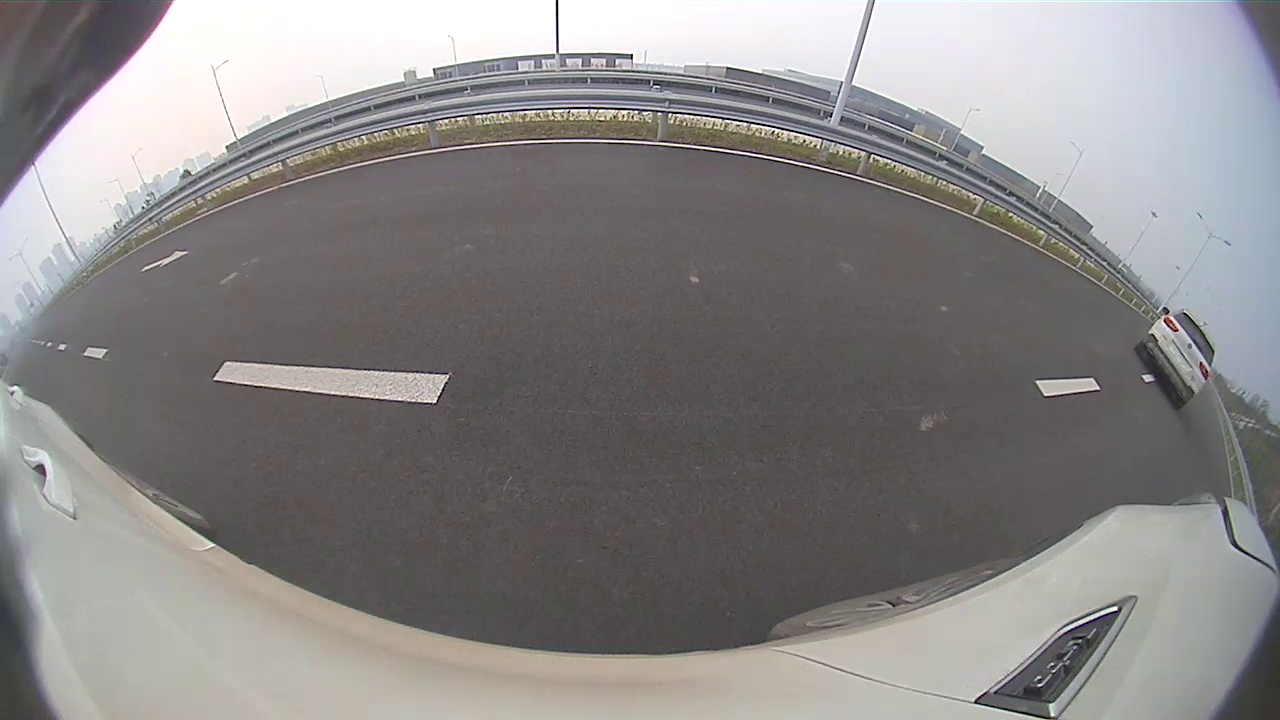car: (1134, 306, 1215, 411)
